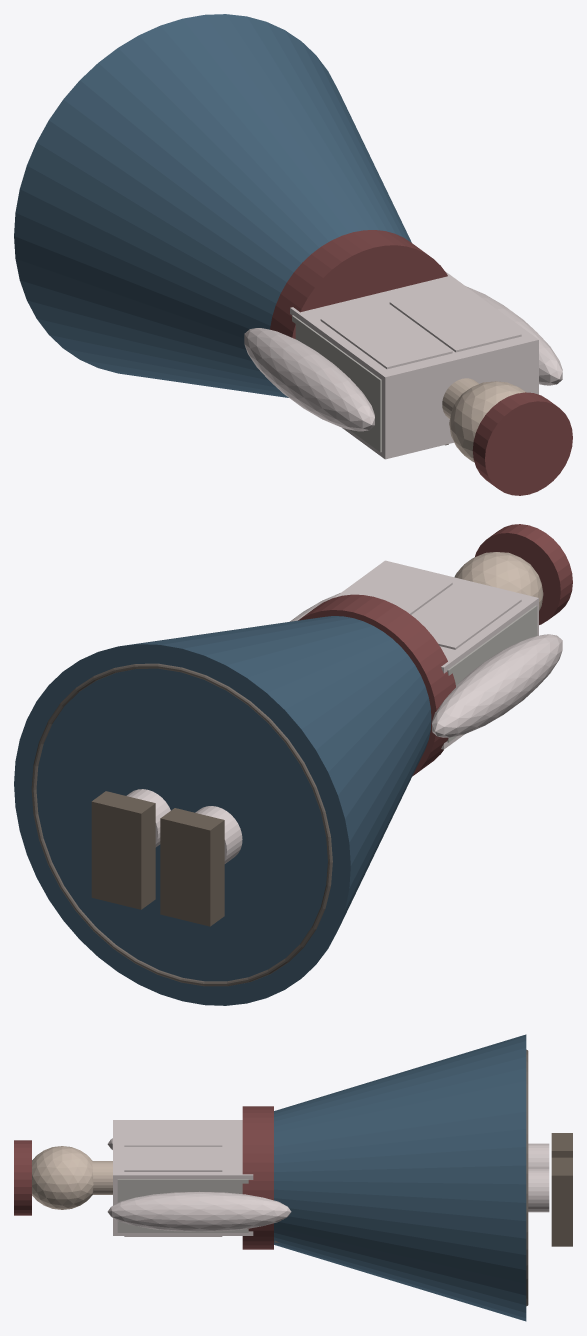
Rendered from MASTER_079_STAGE3_DETAIL.glb.
The picture shows the model from 3 angles, top to bottom: view 1: azimuth 30°, elevation 25°; view 2: azimuth 150°, elevation 25°; view 3: azimuth 270°, elevation 25°; orthographic projection. The views are drawn at different scales.
Visible parts, largest first — view 1: slot_lower_main__fund_i_gjatë, slot_upper_inner__këmishë, slot_waist__brez, slot_headwear__mbulesë_koke, slot_upper_inner_sleeve_L, slot_upper_outer__jelek_R, slot_upper_outer__jelek_L, mannequin_torso, mannequin_head, slot_upper_inner_sleeve_R, mannequin_neck; view 2: slot_lower_main__fund_i_gjatë, slot_footwear__opinga_R, slot_footwear__opinga_L, slot_upper_inner_sleeve_L, slot_waist__brez, detail_skirt_hem, slot_headwear__mbulesë_koke, slot_upper_outer__jelek_L, slot_upper_inner__këmishë, mannequin_head, slot_upper_outer__jelek_R, mannequin_torso (+2 smaller); view 3: slot_lower_main__fund_i_gjatë, slot_upper_inner_sleeve_R, slot_waist__brez, slot_upper_inner__këmishë, mannequin_head, slot_upper_outer__jelek_R, slot_upper_outer__jelek_L, mannequin_torso, slot_footwear__opinga_R, slot_headwear__mbulesë_koke, slot_legwear__çorape_R, detail_skirt_hem (+3 smaller).
Part boxes in pixels (bbox=[...]): slot_lower_main__fund_i_gjatë: bbox=[14, 14, 411, 397]; slot_upper_inner__këmishë: bbox=[290, 271, 538, 459]; slot_waist__brez: bbox=[270, 230, 447, 338]; slot_headwear__mbulesë_koke: bbox=[472, 392, 572, 495]; slot_upper_inner_sleeve_L: bbox=[244, 328, 374, 431]; slot_upper_outer__jelek_R: bbox=[389, 286, 521, 352]; slot_upper_outer__jelek_L: bbox=[320, 303, 452, 369]; mannequin_torso: bbox=[292, 315, 381, 452]; mannequin_head: bbox=[449, 381, 525, 462]; slot_upper_inner_sleeve_R: bbox=[466, 286, 562, 385]; mannequin_neck: bbox=[442, 378, 478, 418]; slot_lower_main__fund_i_gjatë: bbox=[14, 616, 431, 1005]; slot_footwear__opinga_R: bbox=[91, 791, 155, 909]; slot_footwear__opinga_L: bbox=[160, 808, 224, 926]; slot_upper_inner_sleeve_L: bbox=[432, 634, 562, 737]; slot_waist__brez: bbox=[298, 594, 455, 776]; detail_skirt_hem: bbox=[31, 663, 332, 986]; slot_headwear__mbulesë_koke: bbox=[475, 524, 572, 624]; slot_upper_outer__jelek_L: bbox=[412, 583, 521, 649]; slot_upper_inner__këmishë: bbox=[335, 560, 538, 749]; mannequin_head: bbox=[454, 552, 543, 610]; slot_upper_outer__jelek_R: bbox=[348, 566, 452, 614]; mannequin_torso: bbox=[447, 605, 537, 742]; slot_lower_main__fund_i_gjatë: bbox=[274, 1034, 526, 1321]; slot_upper_inner_sleeve_R: bbox=[107, 1191, 291, 1231]; slot_waist__brez: bbox=[242, 1106, 273, 1249]; slot_upper_inner__këmishë: bbox=[113, 1120, 253, 1235]; mannequin_head: bbox=[32, 1146, 93, 1209]; slot_upper_outer__jelek_R: bbox=[124, 1146, 222, 1236]; slot_upper_outer__jelek_L: bbox=[124, 1121, 222, 1146]; mannequin_torso: bbox=[117, 1179, 248, 1232]; slot_footwear__opinga_R: bbox=[551, 1157, 572, 1246]; slot_headwear__mbulesë_koke: bbox=[14, 1140, 31, 1215]; slot_legwear__çorape_R: bbox=[528, 1168, 549, 1212]; detail_skirt_hem: bbox=[526, 1049, 528, 1306].
Size of the model in its own units: 0.8796 by 0.8796 by 1.71.
